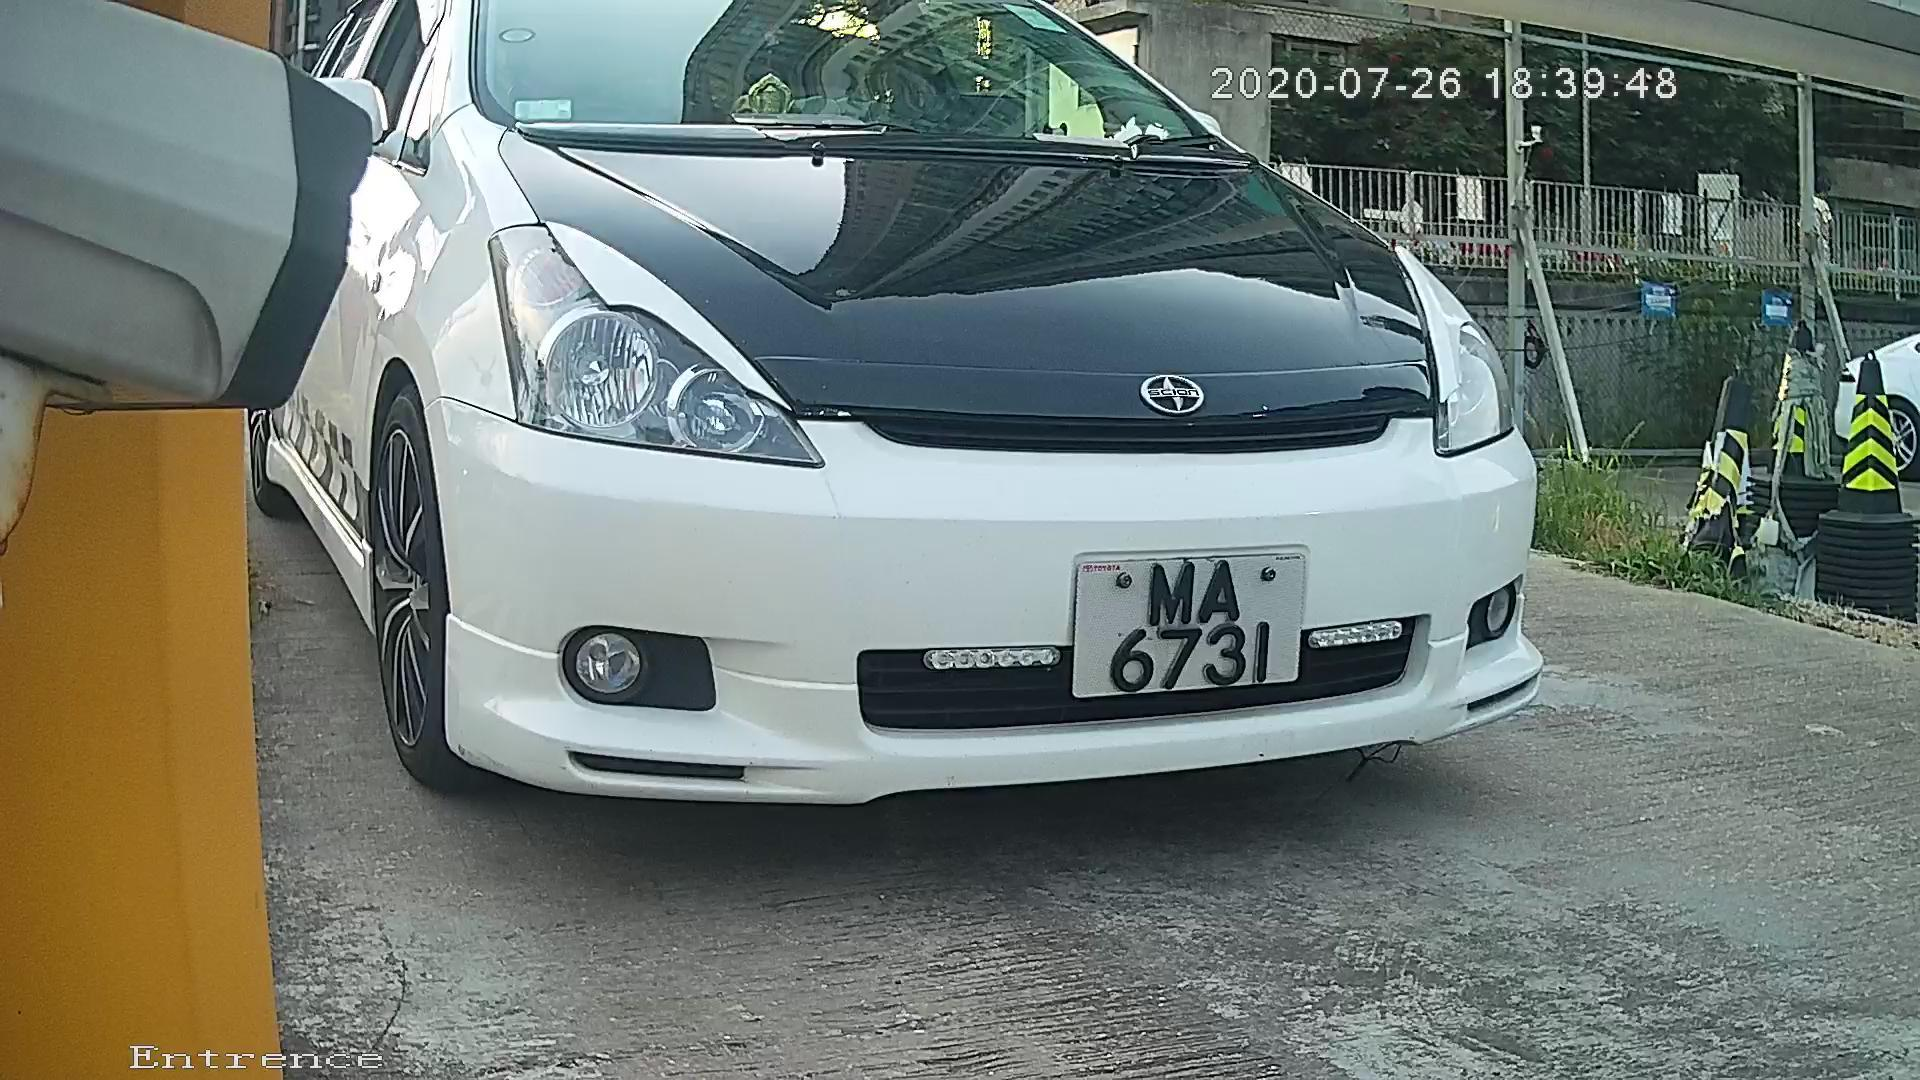License Plate: (1029, 536, 1329, 714)
